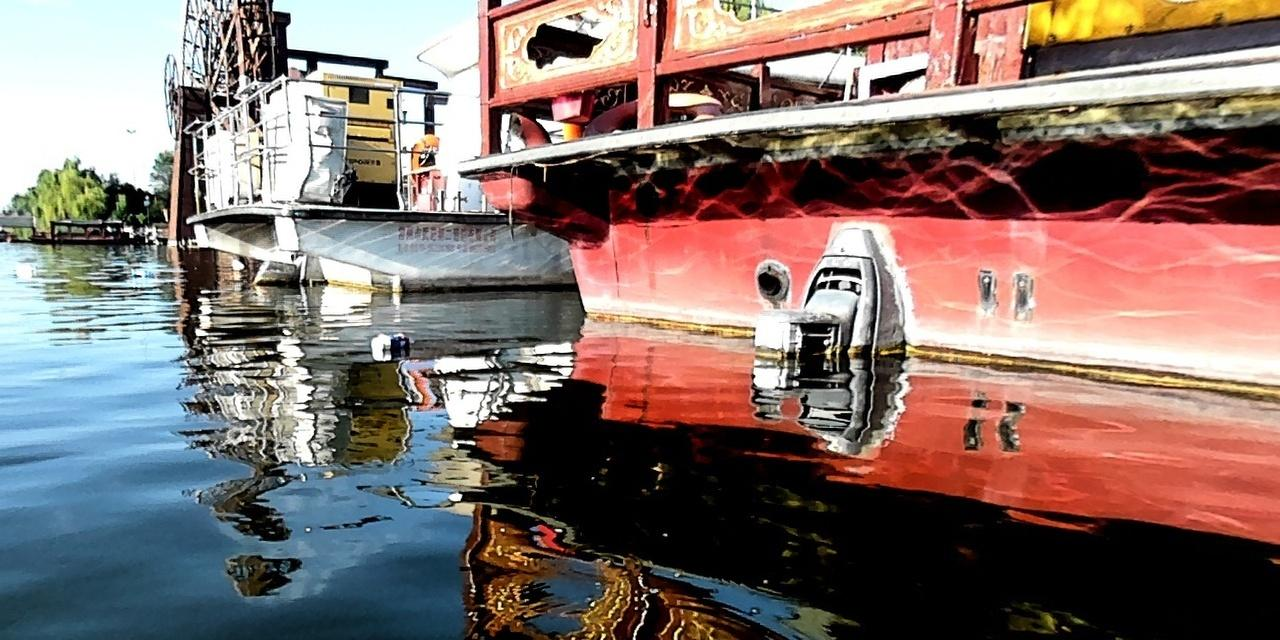bottle: (367, 327, 414, 355)
